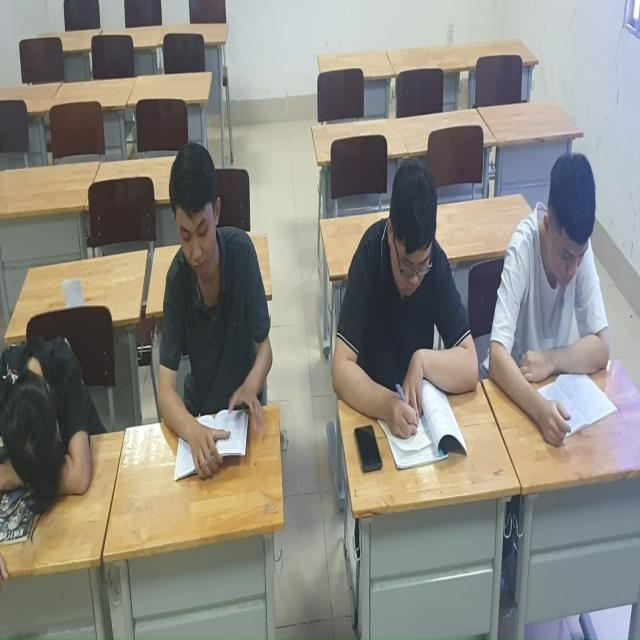read: (319, 137, 491, 489), (141, 120, 283, 503), (498, 139, 616, 446)
sleep: (1, 295, 101, 524)
